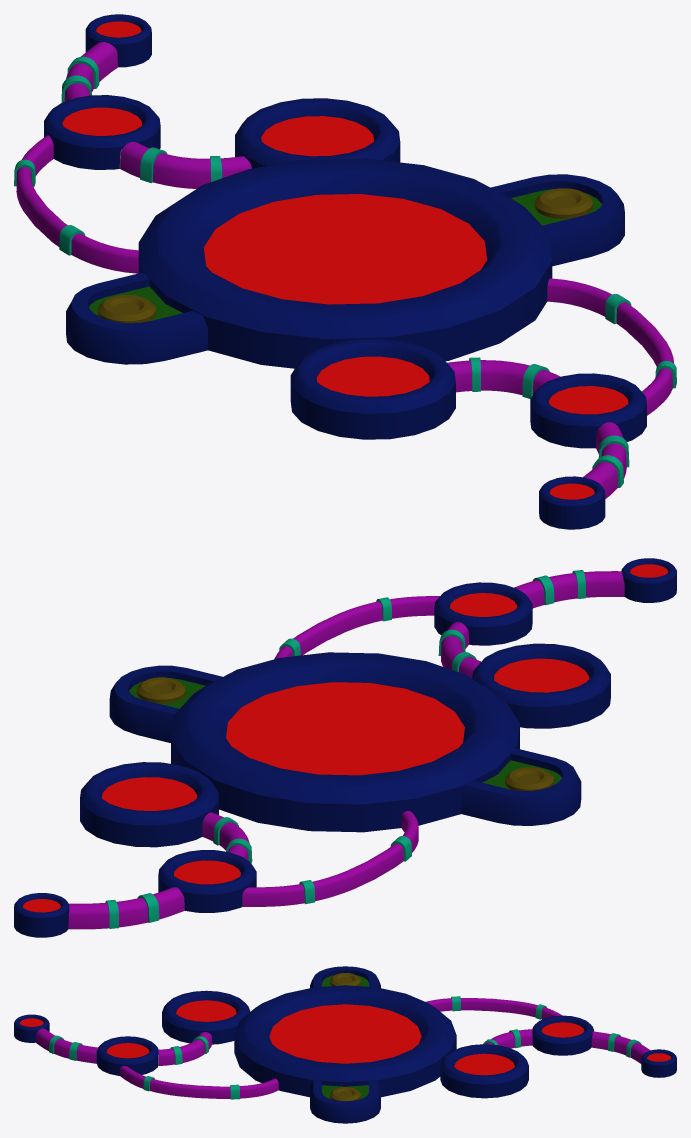
Rendered from OBJ_Lampe_Mur.fbx.
3 renders of one model, top to bottom at view 1: azimuth 30°, elevation 25°; view 2: azimuth 150°, elevation 25°; view 3: azimuth 270°, elevation 25°, orthographic. The views are drawn at different scales.
Parts seen in each view (by area): view 1: OBJ_Lampe_Mur; view 2: OBJ_Lampe_Mur; view 3: OBJ_Lampe_Mur.
Part boxes in pixels (x1,y1,x2,y2): OBJ_Lampe_Mur: (14,14,676,529); OBJ_Lampe_Mur: (14,558,676,937); OBJ_Lampe_Mur: (14,966,676,1123).
Bounding box in the file's own units: 903 × 75.02 × 1789.
